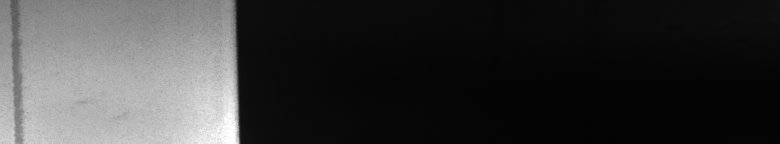hd: (4, 4, 28, 136)
